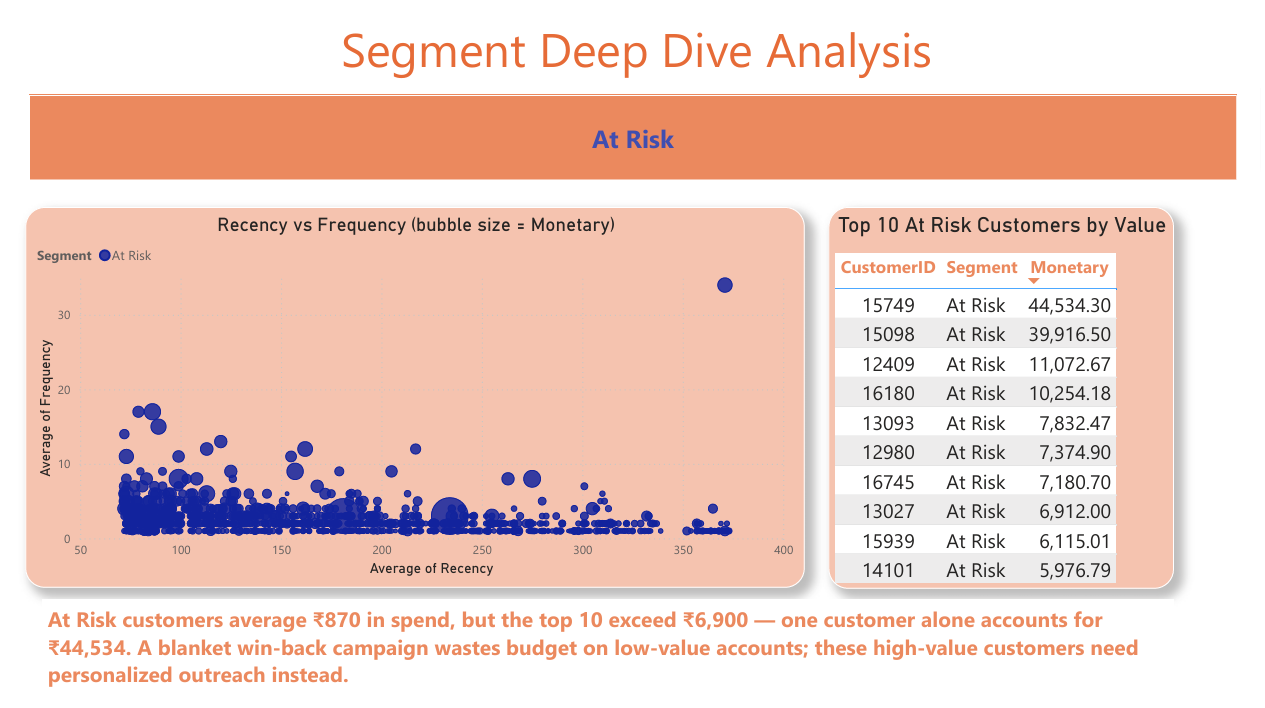

The dashboard page shown, as its layout file describes it:
{"tool":"powerbi","page":{"name":"Segment Deep Dive","canvas":[1280,720],"ordinal":1},"visuals":[{"type":"slicer","fields":{"Values":["rfm_customer_segmented.Segment"]},"box":[0,79.3,1280,100.5],"z":0},{"type":"scatterChart","title":"Recency vs Frequency (bubble size = Monetary)","fields":{"X":["Avg(rfm_customer_segmented.Recency)"],"Y":["Avg(rfm_customer_segmented.Frequency)"],"Size":["Sum(rfm_customer_segmented.Monetary)"],"Series":["rfm_customer_segmented.Segment"],"Category":["rfm_customer_segmented.CustomerID"]},"box":[21.6,200.5,794.2,387.1],"z":1000},{"type":"textbox","box":[9.7,0,1270.3,79.3],"z":2001},{"type":"tableEx","title":"Top 10 At Risk Customers by Value","fields":{"Values":["rfm_customer_segmented.CustomerID","rfm_customer_segmented.Segment","rfm_customer_segmented.Monetary"]},"box":[840.5,200.5,351.6,388.6],"z":2002},{"type":"textbox","box":[40.1,599.9,1152,103.3],"z":2003}]}

Visuals, with their boxes in screenshot pixels (x1, y1, x2, y2), scaled from the page's 1280x720 canvas onto the 1265x708 screenshot:
slicer - rfm_customer_segmented.Segment: box=[0, 78, 1264, 177]
"Recency vs Frequency (bubble size = Monetary)" scatterChart: box=[21, 197, 806, 578]
textbox: box=[10, 0, 1264, 78]
"Top 10 At Risk Customers by Value" tableEx: box=[831, 197, 1178, 579]
textbox: box=[40, 590, 1178, 691]
